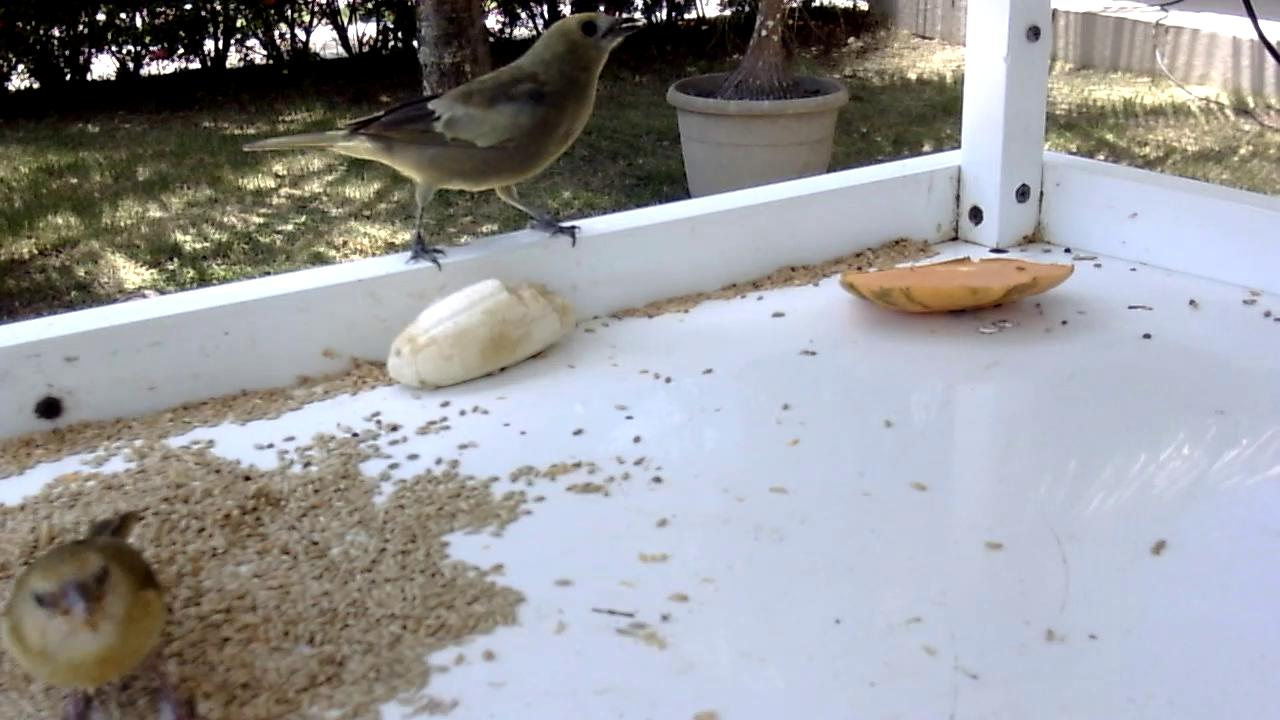canario_do_amazonas: (1, 513, 193, 720)
sanhaco_do_coqueiro: (245, 12, 645, 271)
